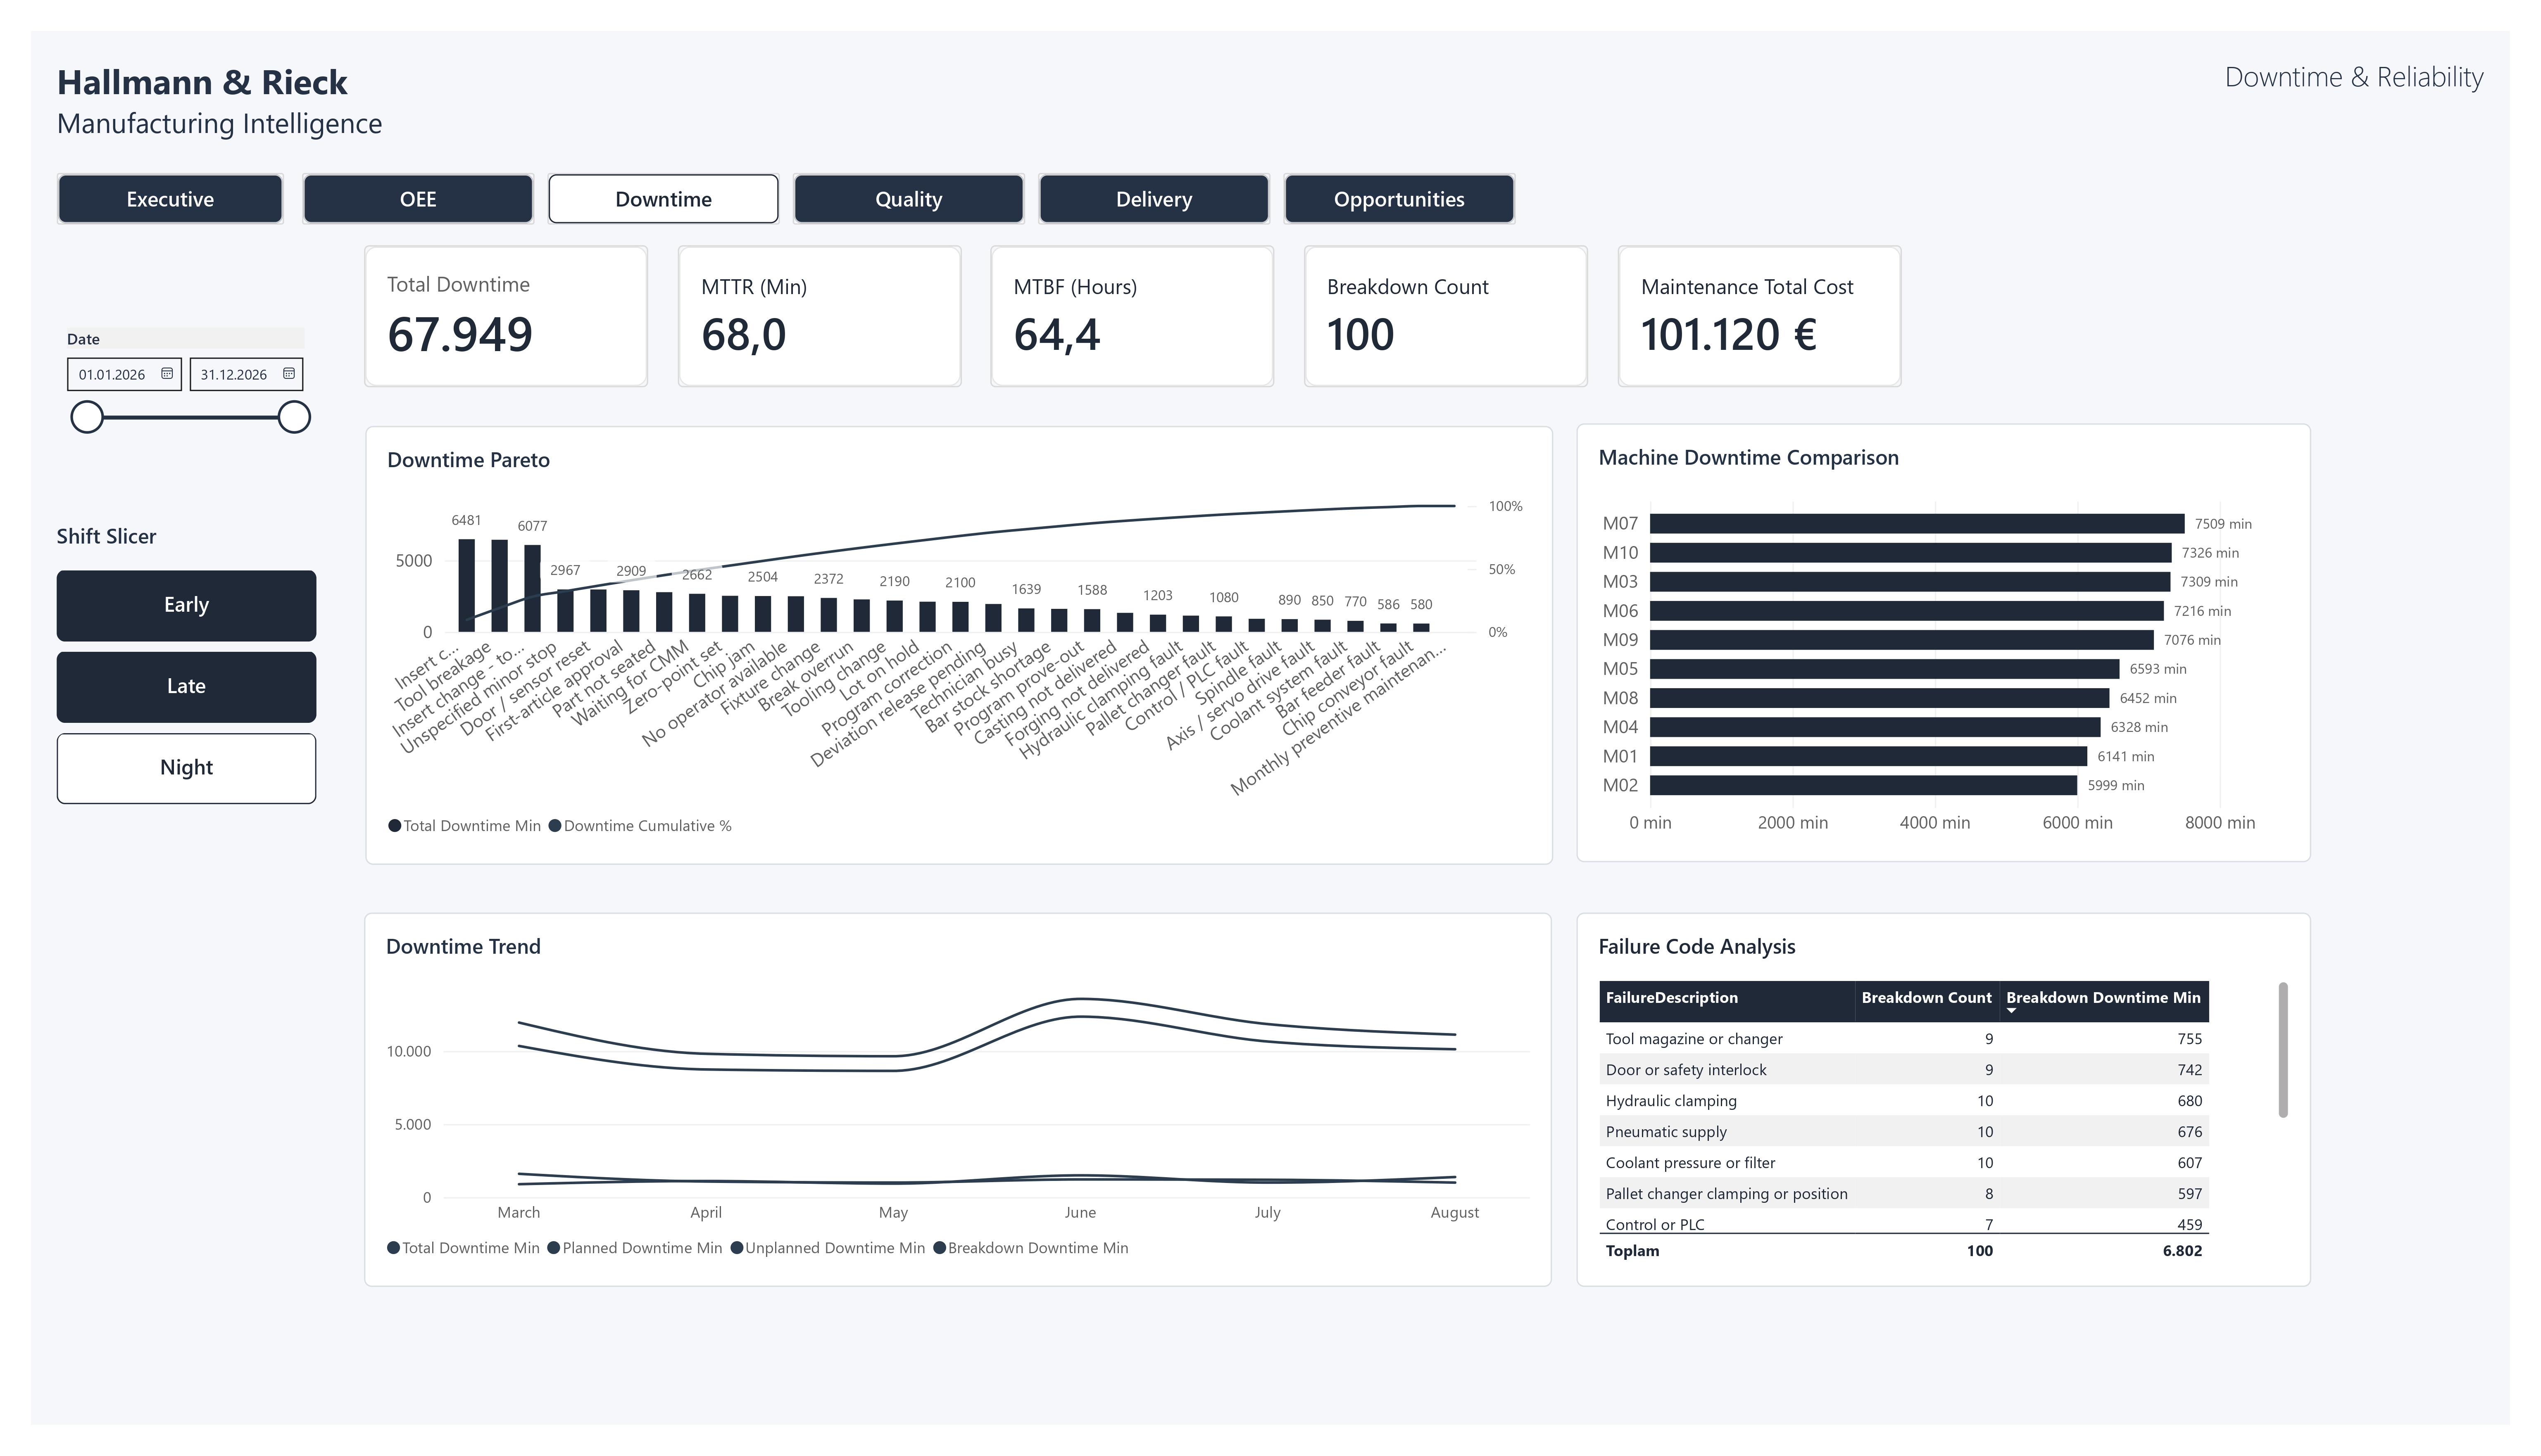

Layout of this report page (visuals, bound fields, positions):
{"tool":"powerbi","page":{"name":"03 Downtime & Reliability","canvas":[1920,1080],"ordinal":2},"visuals":[{"type":"textbox","title":"Company Text","box":[20,20,362.5,80],"z":0,"group":"g1"},{"type":"actionButton","title":"Opportunities","box":[970.3,110.5,180,40],"z":0,"group":"g2"},{"type":"cardVisual","fields":{"Data":["_Measures.Breakdown Count"],"Values":["_Measures.Breakdown Count"]},"box":[986,165.7,220,110],"z":0},{"type":"textbox","title":"Page Text","box":[1644.9,20,255.1,80.5],"z":1000,"group":"g1"},{"type":"actionButton","title":"Delivery","box":[780,110,180,40],"z":1000,"group":"g2"},{"type":"tableEx","title":"Failure Code Analysis","fields":{"Values":["Dim_FailureCode.FailureDescription","_Measures.Breakdown Count","_Measures.Breakdown Downtime Min"]},"box":[1196.5,682.9,569.4,290],"z":1000},{"type":"actionButton","title":"Quality","box":[590,110,180,40],"z":2000,"group":"g2"},{"type":"cardVisual","fields":{"Data":["_Measures.MTBF (Hours)"],"Values":["_Measures.MTTR (Min)"]},"box":[743.4,165.7,220,110],"z":2000},{"type":"actionButton","title":"Downtime","box":[400,110,180,40],"z":3000,"group":"g2"},{"type":"lineClusteredColumnComboChart","title":"Downtime Pareto","fields":{"Category":["Dim_DowntimeReason.Reason"],"Y":["_Measures.Total Downtime Min"],"Y2":["_Measures.Downtime Cumulative %"]},"box":[259.1,306,920,340],"z":3000},{"type":"actionButton","title":"OEE","box":[210,110,180,40],"z":4000,"group":"g2"},{"type":"clusteredBarChart","title":"Machine Downtime Comparison","fields":{"Category":["Dim_Machine.MachineID"],"Y":["_Measures.Total Downtime Min"]},"box":[1196.5,303.9,569.4,340],"z":4000},{"type":"actionButton","title":"Executive","box":[20,110,176,40],"z":5000,"group":"g2"},{"type":"cardVisual","fields":{"Data":["_Measures.Maintenance Total Cost"],"Values":["_Measures.Maintenance Total Cost"]},"box":[1228.7,165.7,220,110],"z":5000},{"type":"lineChart","title":"Downtime Trend ","fields":{"Category":["Dim_Date.MonthName"],"Y":["_Measures.Total Downtime Min","_Measures.Planned Downtime Min","_Measures.Unplanned Downtime Min","_Measures.Breakdown Downtime Min"]},"box":[258.3,682.9,919.9,290],"z":6000},{"type":"cardVisual","fields":{"Data":["_Measures.MTTR (Min)"],"Values":["_Measures.MTBF (Hours)"]},"box":[500.7,165.7,220,110],"z":7000},{"type":"cardVisual","fields":{"Data":["_Measures.Total Downtime Min"],"Values":["_Measures.MTBF (Hours)"]},"box":[258.1,165.7,220,110],"z":8000},{"type":"group","id":"g1","title":"Header","box":[20,20,1880,80.5],"z":9000},{"type":"group","id":"g2","title":"Navigation Buttons","box":[20,110,1130.3,40.5],"z":10000},{"type":"slicer","title":"Date Slicer","fields":{"Values":["Dim_Date.Date"]},"box":[20,230,200,110],"z":11000},{"type":"advancedSlicerVisual","title":"Shift Slicer","fields":{"Values":["Dim_Shift.ShiftName"]},"box":[20,380,200.6,220.9],"z":12000}]}

Visuals, with their boxes on the page's 1920x1080 design canvas (x1, y1, x2, y2). These are canvas units, not pixel positions in the 2541x1456 screenshot, which may show the page scaled, cropped or inside an application window:
"Company Text" textbox: [left=20, top=20, right=382, bottom=100]
"Opportunities" actionButton: [left=970, top=110, right=1150, bottom=150]
cardVisual - _Measures.Breakdown Count x _Measures.Breakdown Count: [left=986, top=166, right=1206, bottom=276]
"Page Text" textbox: [left=1645, top=20, right=1900, bottom=100]
"Delivery" actionButton: [left=780, top=110, right=960, bottom=150]
"Failure Code Analysis" tableEx: [left=1196, top=683, right=1766, bottom=973]
"Quality" actionButton: [left=590, top=110, right=770, bottom=150]
cardVisual - _Measures.MTBF (Hours) x _Measures.MTTR (Min): [left=743, top=166, right=963, bottom=276]
"Downtime" actionButton: [left=400, top=110, right=580, bottom=150]
"Downtime Pareto" lineClusteredColumnComboChart: [left=259, top=306, right=1179, bottom=646]
"OEE" actionButton: [left=210, top=110, right=390, bottom=150]
"Machine Downtime Comparison" clusteredBarChart: [left=1196, top=304, right=1766, bottom=644]
"Executive" actionButton: [left=20, top=110, right=196, bottom=150]
cardVisual - _Measures.Maintenance Total Cost x _Measures.Maintenance Total Cost: [left=1229, top=166, right=1449, bottom=276]
"Downtime Trend " lineChart: [left=258, top=683, right=1178, bottom=973]
cardVisual - _Measures.MTTR (Min) x _Measures.MTBF (Hours): [left=501, top=166, right=721, bottom=276]
cardVisual - _Measures.Total Downtime Min x _Measures.MTBF (Hours): [left=258, top=166, right=478, bottom=276]
"Header" group: [left=20, top=20, right=1900, bottom=100]
"Navigation Buttons" group: [left=20, top=110, right=1150, bottom=150]
"Date Slicer" slicer: [left=20, top=230, right=220, bottom=340]
"Shift Slicer" advancedSlicerVisual: [left=20, top=380, right=221, bottom=601]
